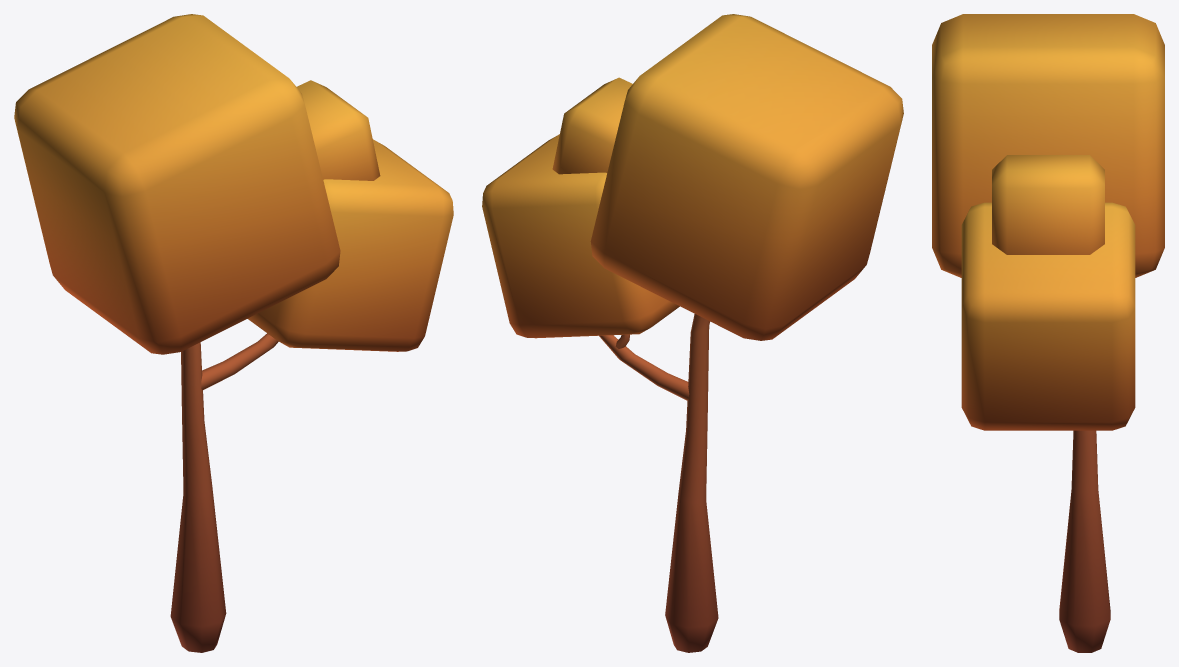
Rendered from tree_small.gltf.
3 renders of one model, left to right at view 1: azimuth 30°, elevation 25°; view 2: azimuth 150°, elevation 25°; view 3: azimuth 270°, elevation 25°, orthographic. The views are drawn at different scales.
Visible parts, largest first — view 1: Tree_2_B_Color1; view 2: Tree_2_B_Color1; view 3: Tree_2_B_Color1.
Part boxes in pixels (<box>): Tree_2_B_Color1: <box>14,14,453,652</box>; Tree_2_B_Color1: <box>482,14,903,652</box>; Tree_2_B_Color1: <box>932,14,1164,652</box>.
Size of the model in its own units: 3.7 by 6.04 by 2.1.
Materials: 1 (1 with a texture image).
